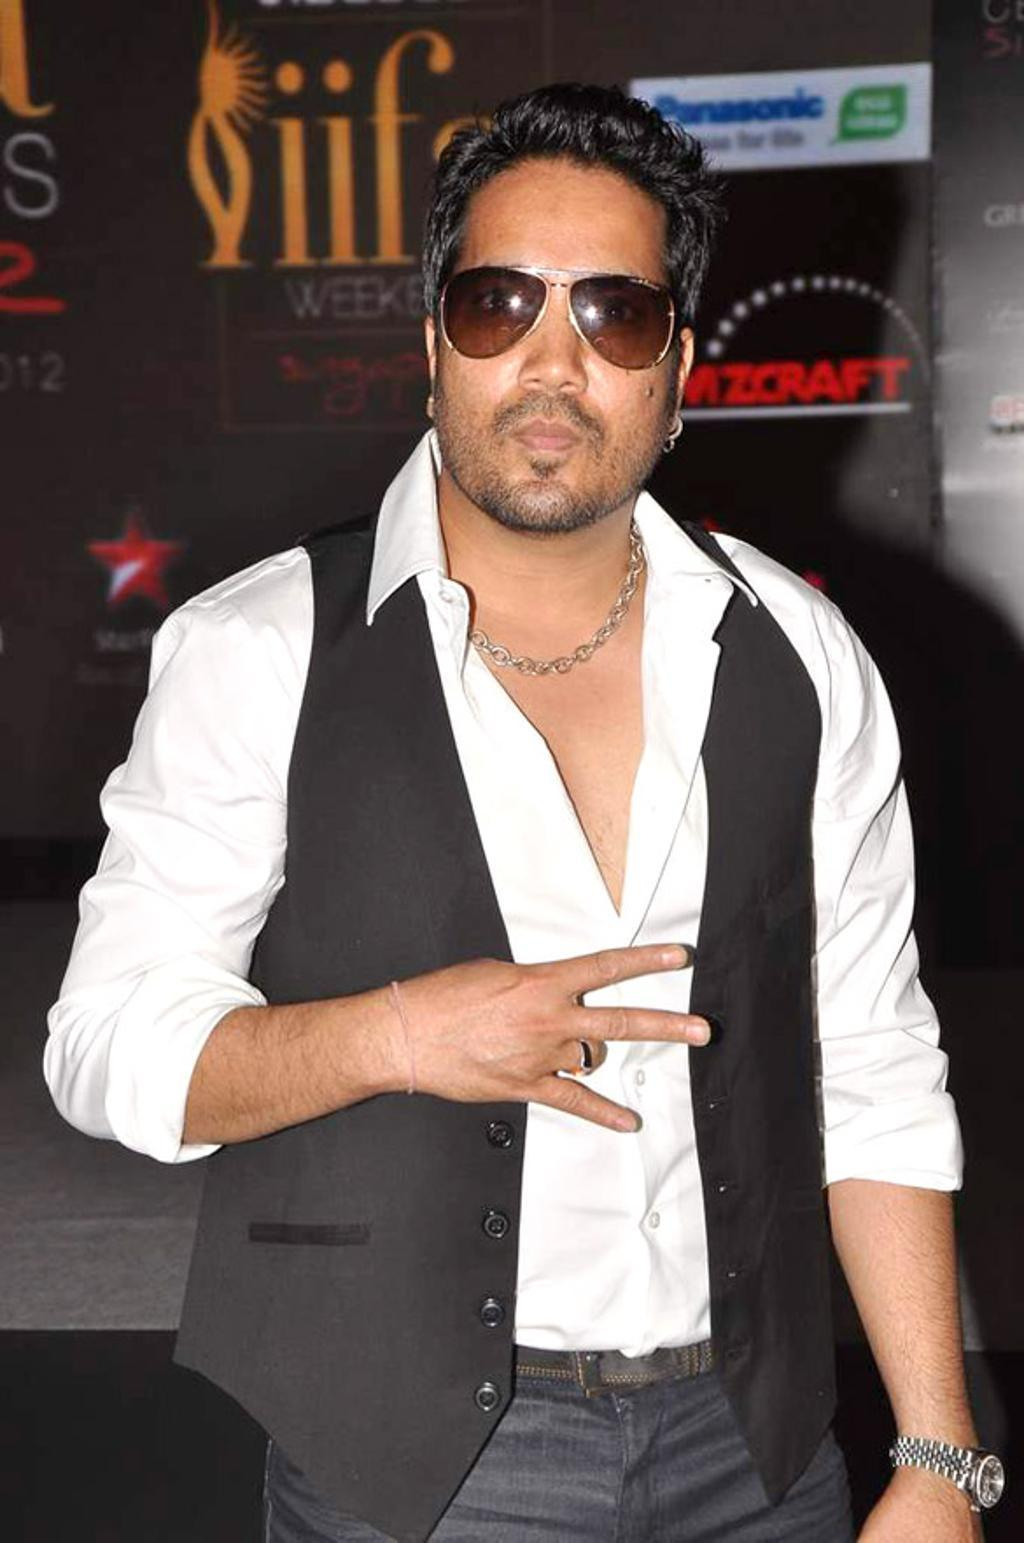face: (438, 167, 682, 531)
